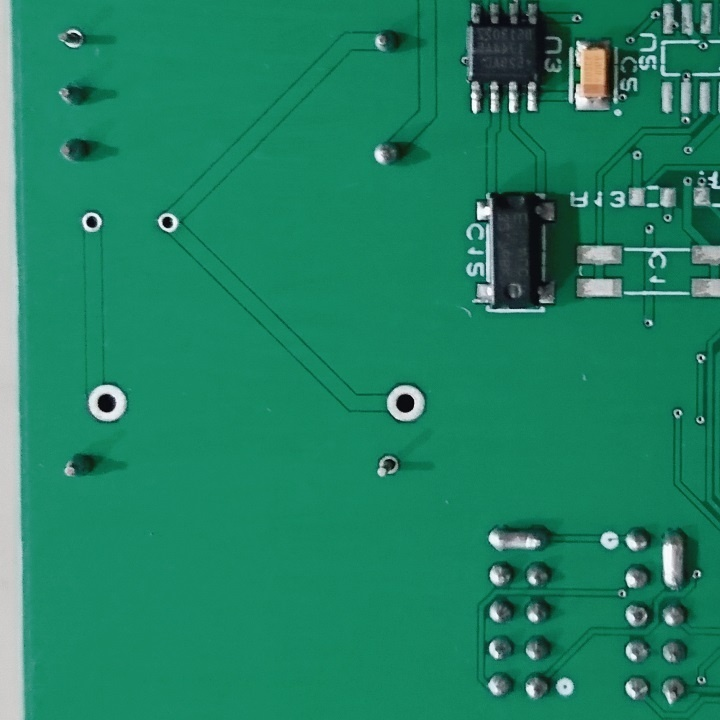F: (382, 380, 431, 432), (84, 380, 131, 428), (370, 450, 403, 483), (53, 24, 86, 52), (77, 208, 106, 235), (155, 210, 181, 238)
P: (485, 523, 552, 555), (657, 526, 688, 594)
